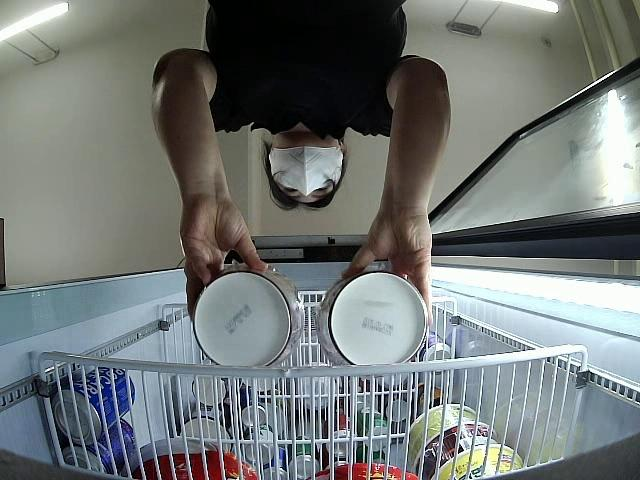00_hand: (341, 199, 432, 327), (177, 195, 267, 320)
05_nuguri_L: (192, 259, 304, 365), (318, 272, 426, 366)
